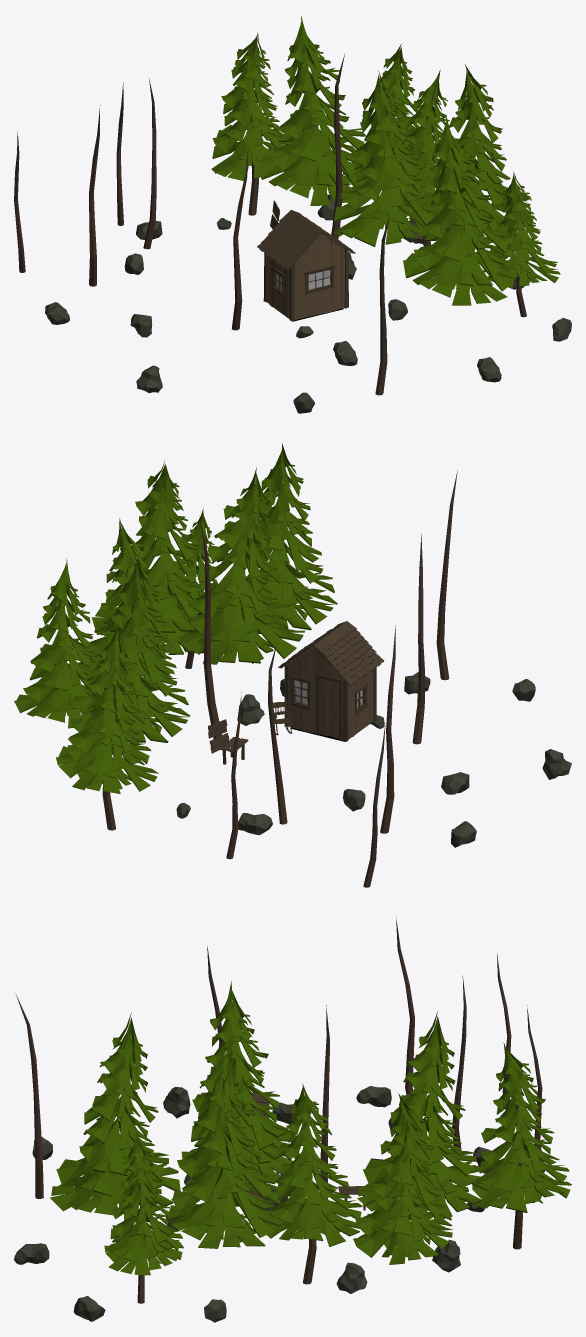
The model's file is Combined Mesh (root_ scene) 2_3.glb.
The picture shows the model from 3 angles, top to bottom: view 1: azimuth 30°, elevation 25°; view 2: azimuth 150°, elevation 25°; view 3: azimuth 270°, elevation 25°; orthographic projection. The views are drawn at different scales.
Visible parts, largest first — view 1: Combined Mesh (root_ scene) 2_3; view 2: Combined Mesh (root_ scene) 2_3; view 3: Combined Mesh (root_ scene) 2_3.
Boxes of the visible parts, left/top/right/bottom form: Combined Mesh (root_ scene) 2_3: left=14, top=15, right=571, bottom=413; Combined Mesh (root_ scene) 2_3: left=14, top=443, right=571, bottom=887; Combined Mesh (root_ scene) 2_3: left=14, top=917, right=571, bottom=1322.
Size of the model in its own units: 17.17 by 9.93 by 18.23.
Materials: 1 (1 with a texture image).
